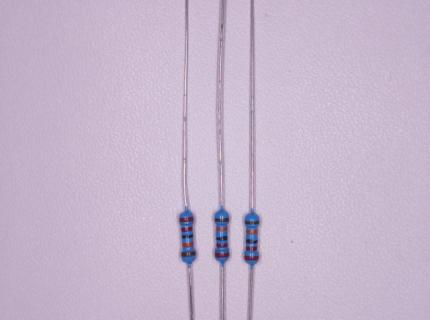Black band: (246, 239, 258, 244), (216, 236, 228, 241), (181, 234, 193, 239)
Brown band: (181, 251, 196, 257), (244, 220, 260, 225), (215, 218, 230, 223)
Orange band: (182, 241, 193, 247), (216, 227, 228, 232), (246, 230, 258, 235)
Red band: (244, 255, 259, 261), (215, 252, 229, 258), (181, 226, 193, 232), (179, 217, 193, 222), (217, 243, 228, 248), (246, 246, 257, 251)
